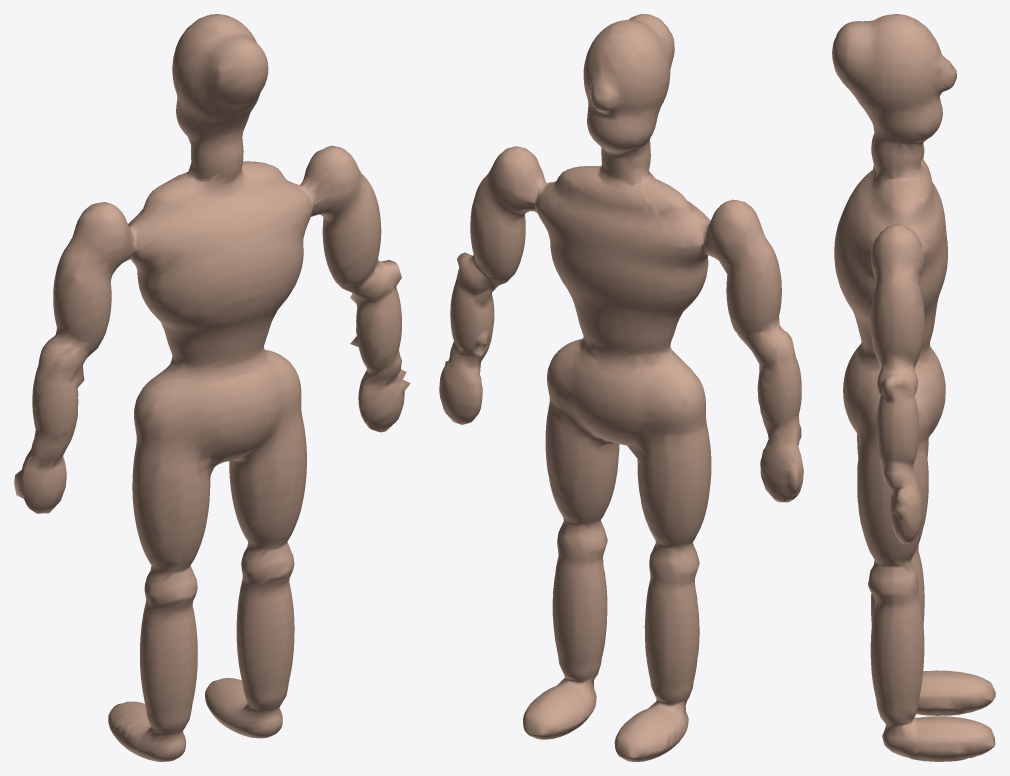
The model's file is character.glb.
The picture shows the model from 3 angles, left to right: view 1: azimuth 30°, elevation 25°; view 2: azimuth 150°, elevation 25°; view 3: azimuth 270°, elevation 25°; orthographic projection. The views are drawn at different scales.
Visible parts, largest first — view 1: character; view 2: character; view 3: character.
Part boxes in pixels (x1,y1,x2,y2): character: (14, 14, 410, 761); character: (439, 14, 803, 761); character: (832, 14, 995, 761).
Size of the model in its own units: 0.9713 by 1.79 by 0.3691.
